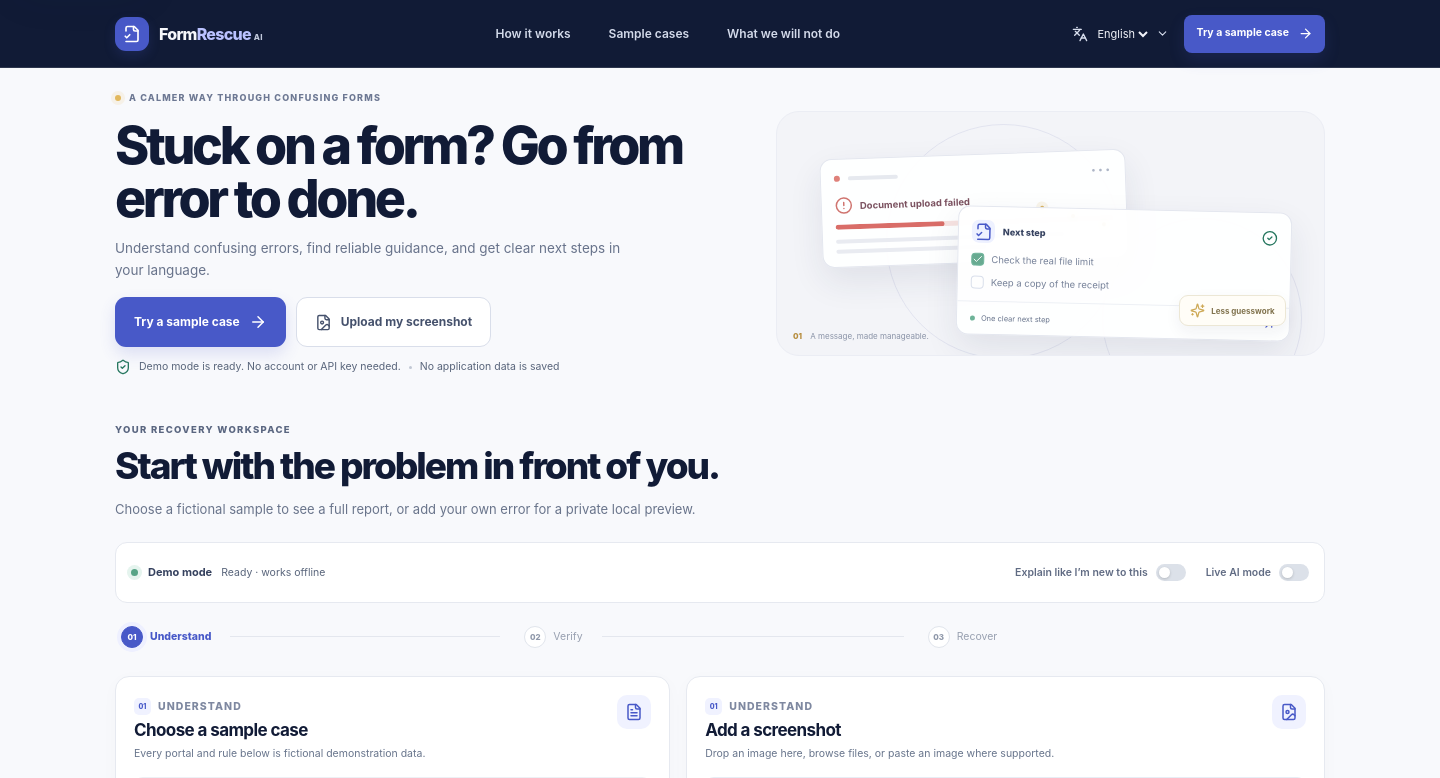
Test: FormRescue user workflows › never invents a live provider connection and can return to demo mode
Click the checkbox labelled "Live AI mode" at (1257, 572), box [1206, 564, 1309, 581]
(page scrolled)
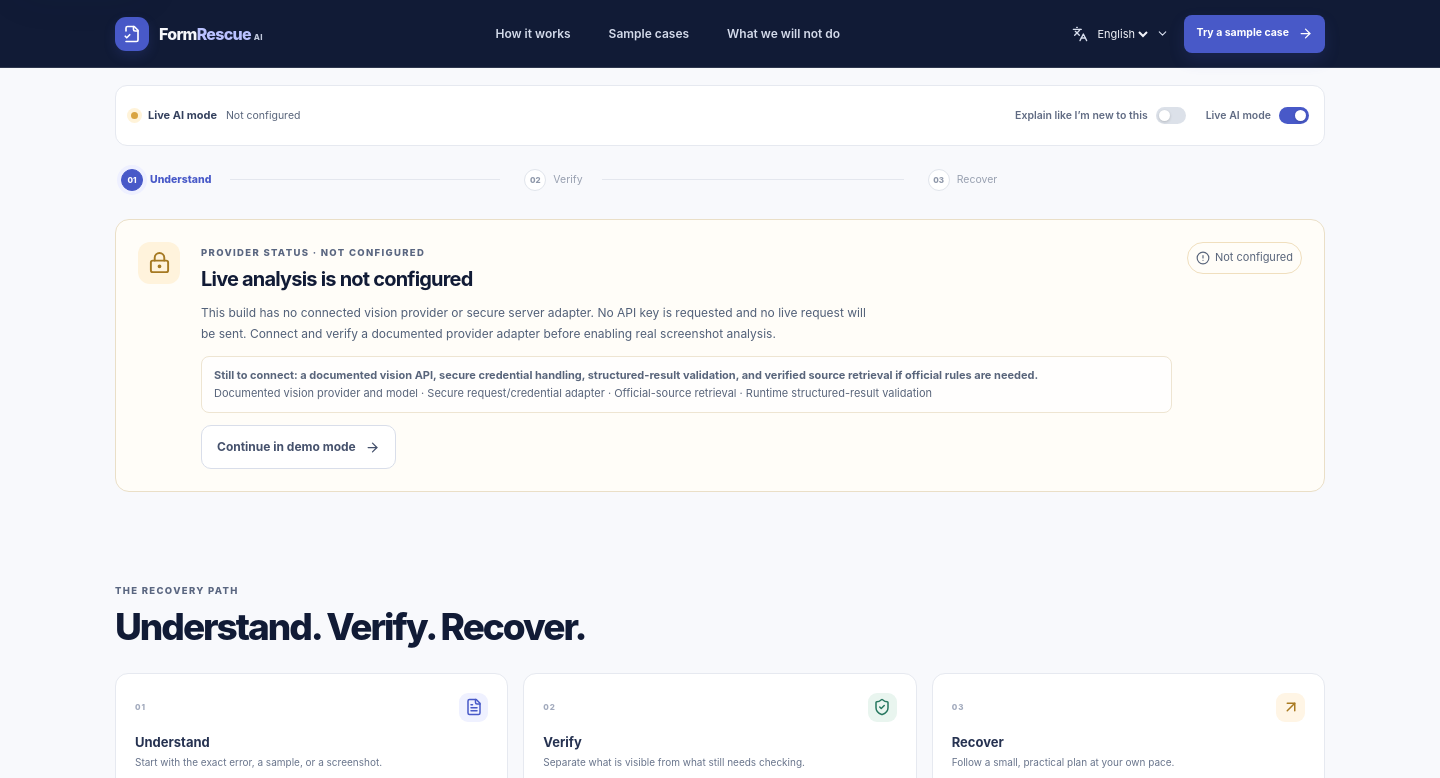
Result: the heading "Live analysis is not configured" is shown at [201, 267, 472, 291]
Result: the text "No API key is requested and no live request will be sent" is shown at [201, 305, 866, 341]
Click the button "Continue in demo mode" at (298, 447), box [201, 425, 396, 469]
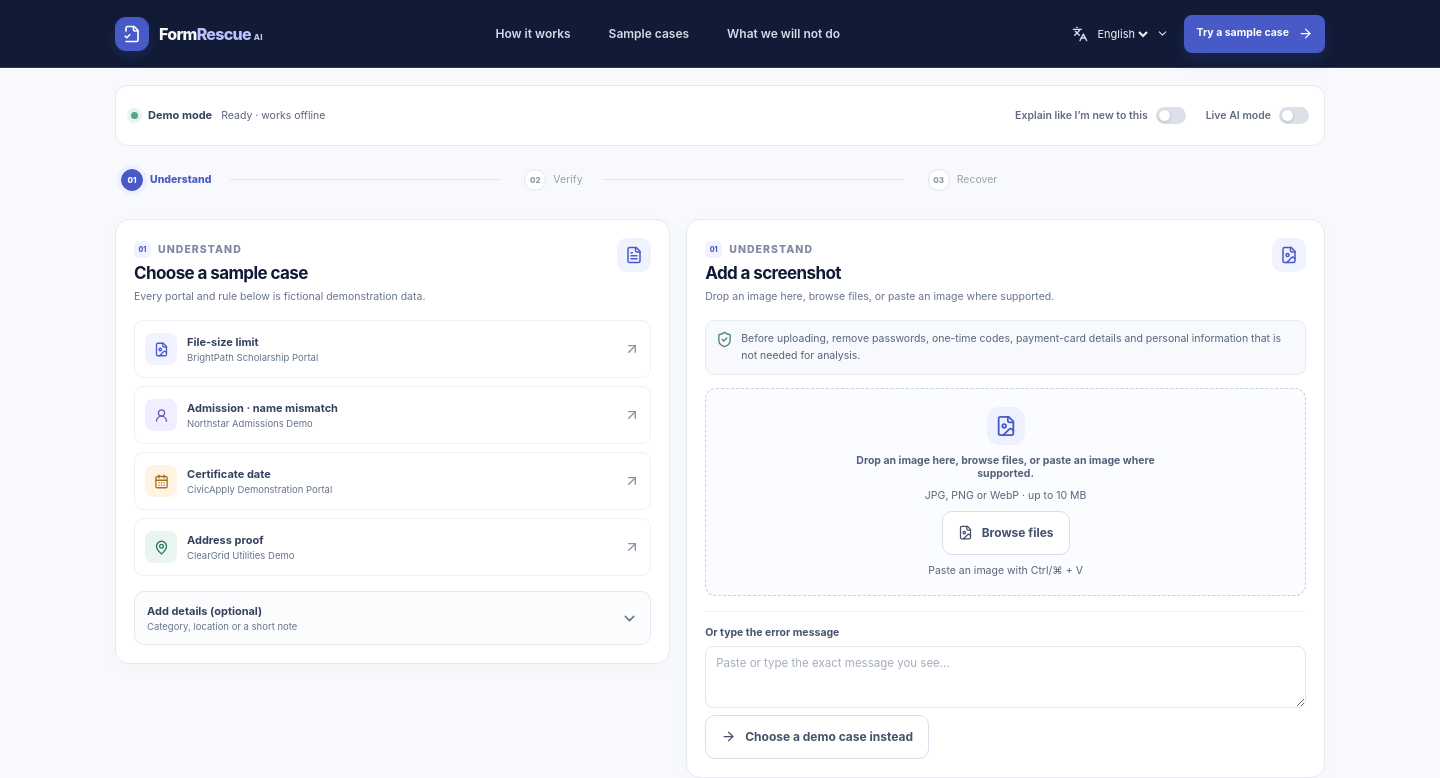
Result: the heading "Choose a sample case" is shown at [134, 263, 308, 283]
